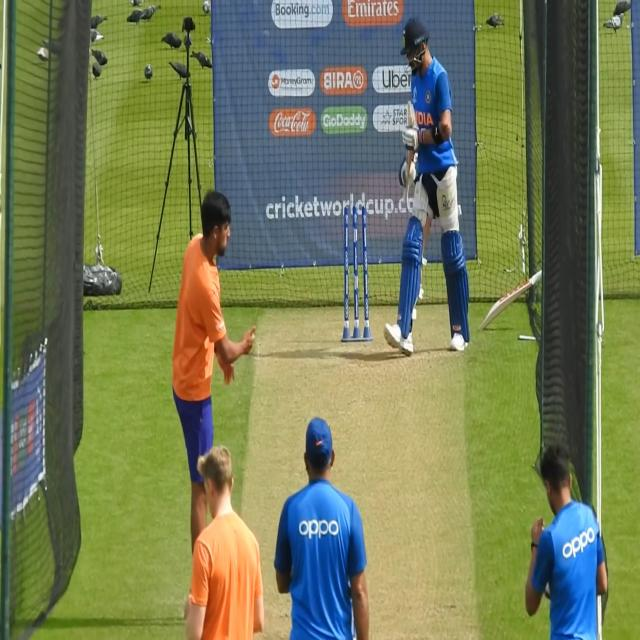stump: (340, 202, 372, 343)
